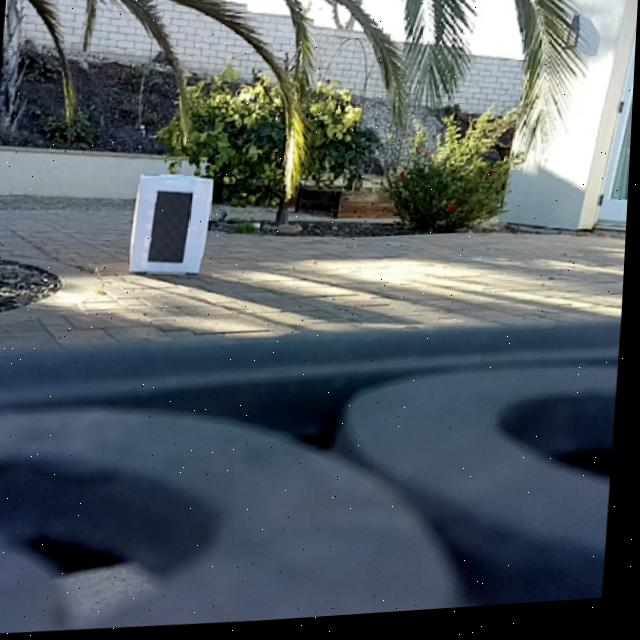led: (155, 188, 191, 273)
